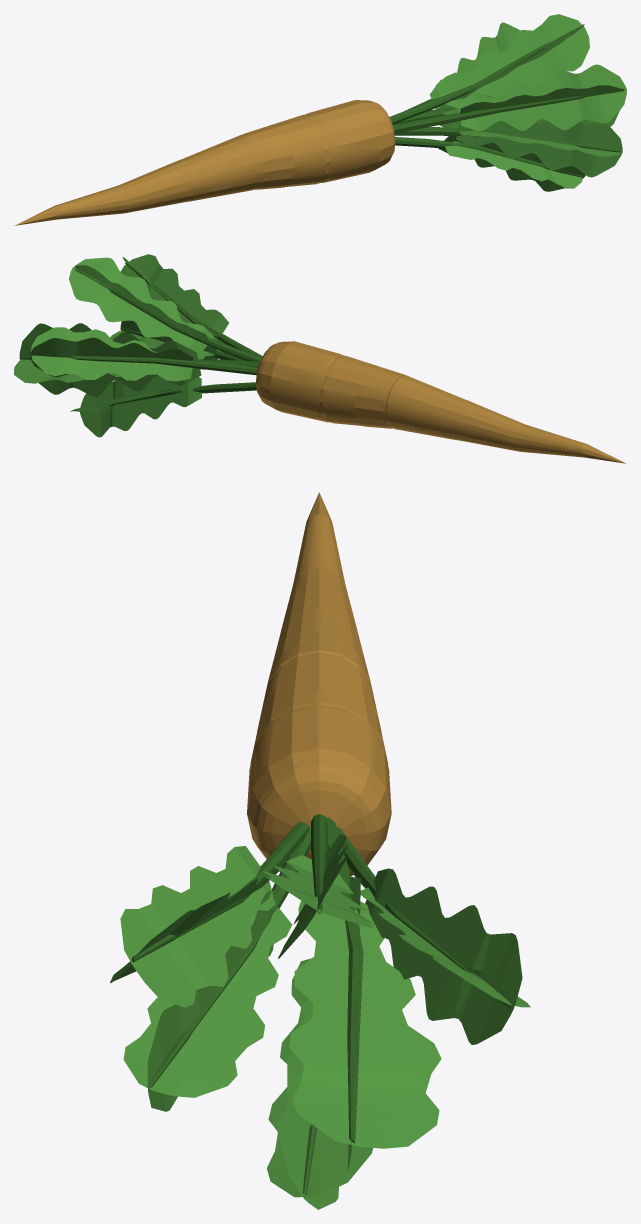
File: CarrotPeices.fbx
3 renders of one model, top to bottom at view 1: azimuth 30°, elevation 25°; view 2: azimuth 150°, elevation 25°; view 3: azimuth 270°, elevation 25°, orthographic. The views are drawn at different scales.
Visible parts, largest first — view 1: Carrot_Whole, Cut1B, Cut1A, Cut2A, Cut2B, Cut3B, Cut3A, Cut3D, Cut3C; view 2: Carrot_Whole, Cut1B, Cut1A, Cut2B, Cut3D, Cut3B, Cut2A, Cut3A, Cut3C; view 3: Cut1B, Carrot_Whole, Cut2B, Cut3B, Cut1A, Cut3D, Cut2A, Cut3A.
Part boxes in pixels (bbox=[...]): Carrot_Whole: bbox=[53, 14, 626, 219]; Cut1B: bbox=[355, 19, 624, 188]; Cut1A: bbox=[48, 114, 380, 219]; Cut2A: bbox=[24, 147, 230, 223]; Cut2B: bbox=[223, 106, 380, 189]; Cut3B: bbox=[272, 100, 378, 186]; Cut3A: bbox=[214, 134, 293, 195]; Cut3D: bbox=[118, 146, 214, 203]; Cut3C: bbox=[14, 185, 129, 225]; Carrot_Whole: bbox=[14, 257, 592, 457]; Cut1B: bbox=[14, 254, 294, 437]; Cut1A: bbox=[270, 351, 597, 457]; Cut2B: bbox=[271, 344, 424, 430]; Cut3D: bbox=[417, 386, 525, 451]; Cut3B: bbox=[272, 341, 375, 425]; Cut2A: bbox=[417, 387, 612, 460]; Cut3A: bbox=[354, 375, 432, 433]; Cut3C: bbox=[514, 425, 625, 463]; Cut1B: bbox=[110, 748, 522, 1209]; Carrot_Whole: bbox=[123, 513, 530, 1204]; Cut2B: bbox=[255, 634, 385, 787]; Cut3B: bbox=[250, 679, 388, 788]; Cut1A: bbox=[248, 513, 391, 810]; Cut3D: bbox=[281, 568, 362, 654]; Cut2A: bbox=[279, 507, 364, 657]; Cut3A: bbox=[257, 631, 381, 731].
Bounding box in the file's own units: 16.56 × 4.48 × 5.04.
